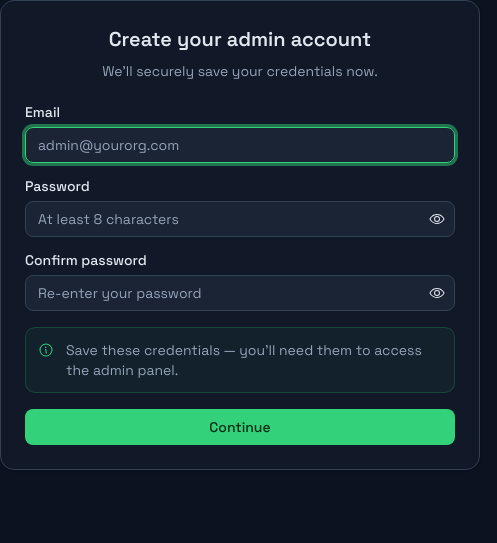
Test: CreateAccountStep › shows validation error for empty email on submit
Step 1. Click the button "Continue" → (240, 427), box [25, 409, 455, 445]
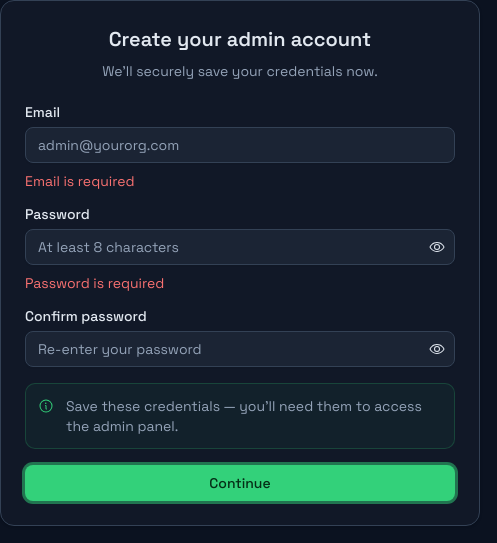
expect the text "Email is required" is shown: met, box [25, 172, 134, 190]
